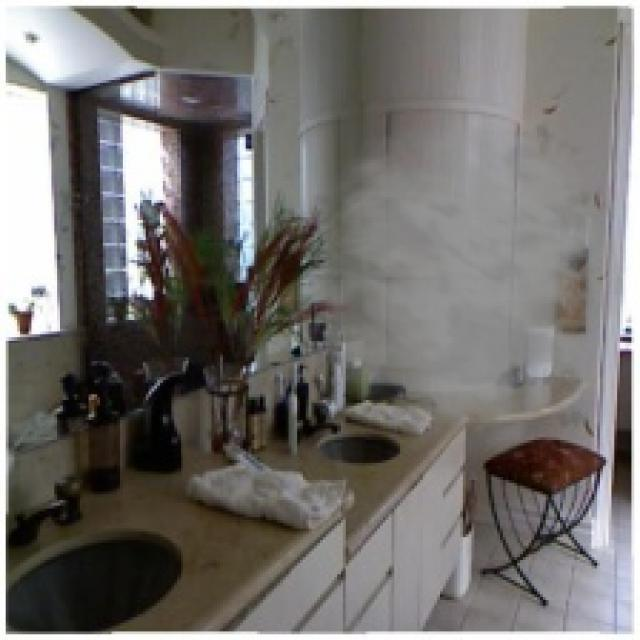Smoke: (277, 108, 629, 460)
